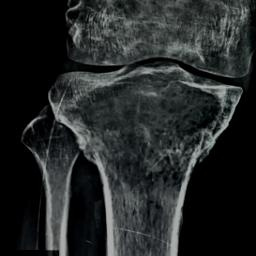cancer: (72, 74, 241, 167)
